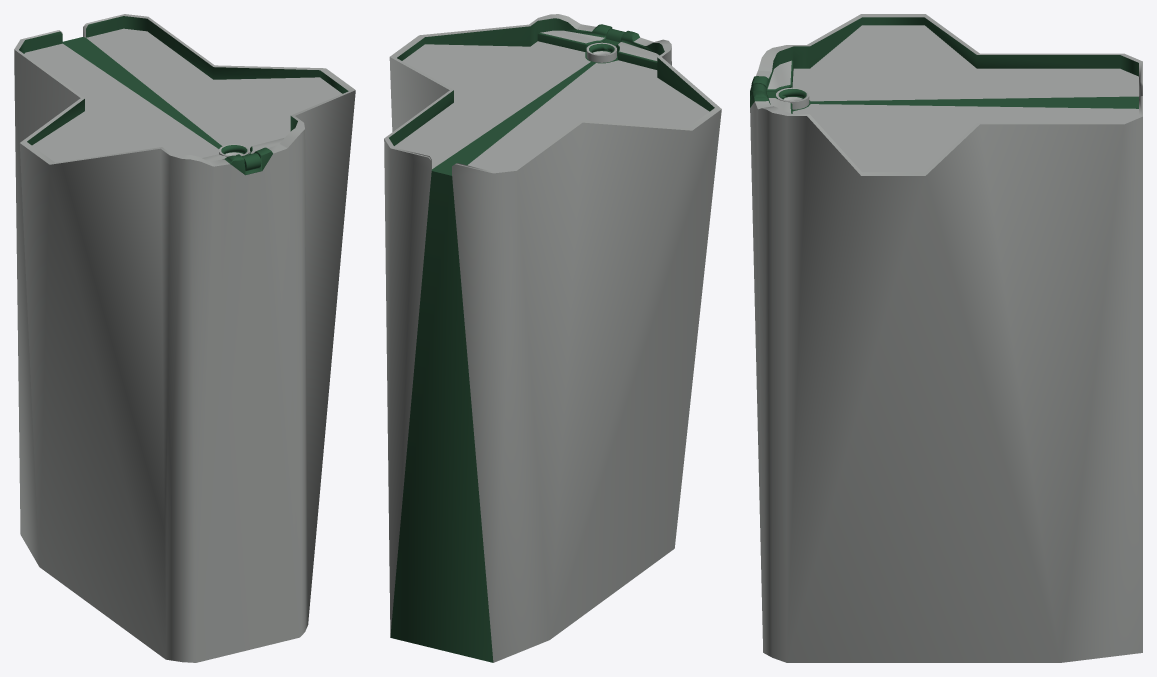
File: Arena_round_door_T.fbx
3 renders of one model, left to right at view 1: azimuth 30°, elevation 25°; view 2: azimuth 150°, elevation 25°; view 3: azimuth 270°, elevation 25°, orthographic. The views are drawn at different scales.
Visible parts, largest first — view 1: arena, door; view 2: arena, door; view 3: arena, door.
Part boxes in pixels (x1,y1,x2,y2): arena: (14,14,355,662); door: (219,144,261,170); arena: (384,14,721,662); door: (586,29,625,62); arena: (750,14,1142,662); door: (750,83,809,109).
Bounding box in the file's own units: 1962 × 3081 × 2013.
